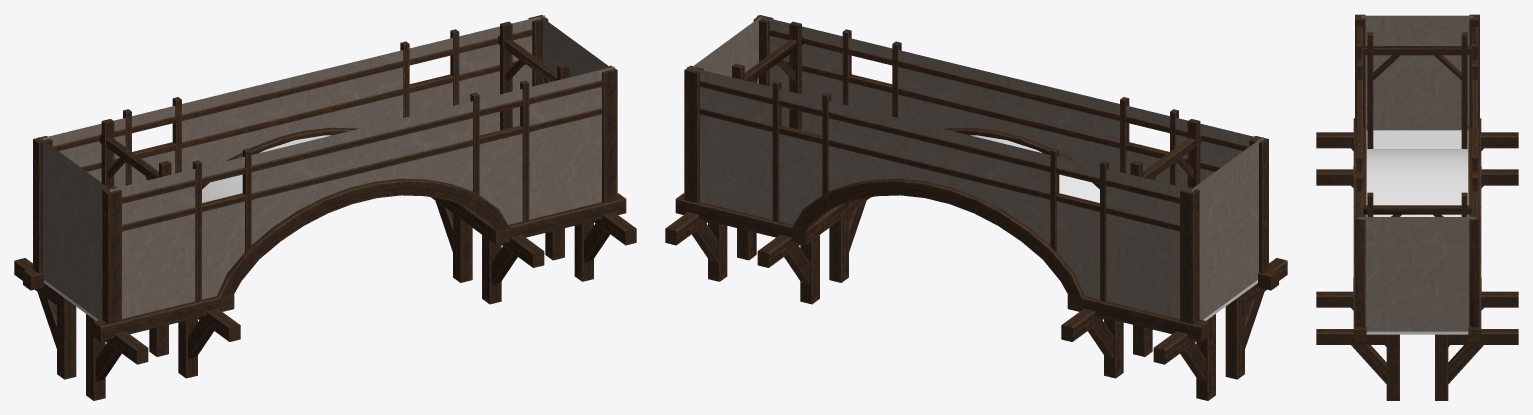
File: Building2b.glb
3 renders of one model, left to right at view 1: azimuth 30°, elevation 25°; view 2: azimuth 150°, elevation 25°; view 3: azimuth 270°, elevation 25°, orthographic. The views are drawn at different scales.
Visible parts, largest first — view 1: wall1, arch; view 2: wall1, arch; view 3: arch, wall1, floor.
Part boxes in pixels (x1,y1,x2,y2): wall1: [38, 15, 614, 319]; arch: [14, 15, 636, 400]; wall1: [687, 15, 1263, 319]; arch: [665, 15, 1287, 400]; arch: [1316, 14, 1518, 400]; wall1: [1358, 15, 1476, 331]; floor: [1366, 130, 1468, 334].
Size of the model in its own units: 11.38 by 4.76 by 4.6.
Materials: 2 (2 with a texture image).
